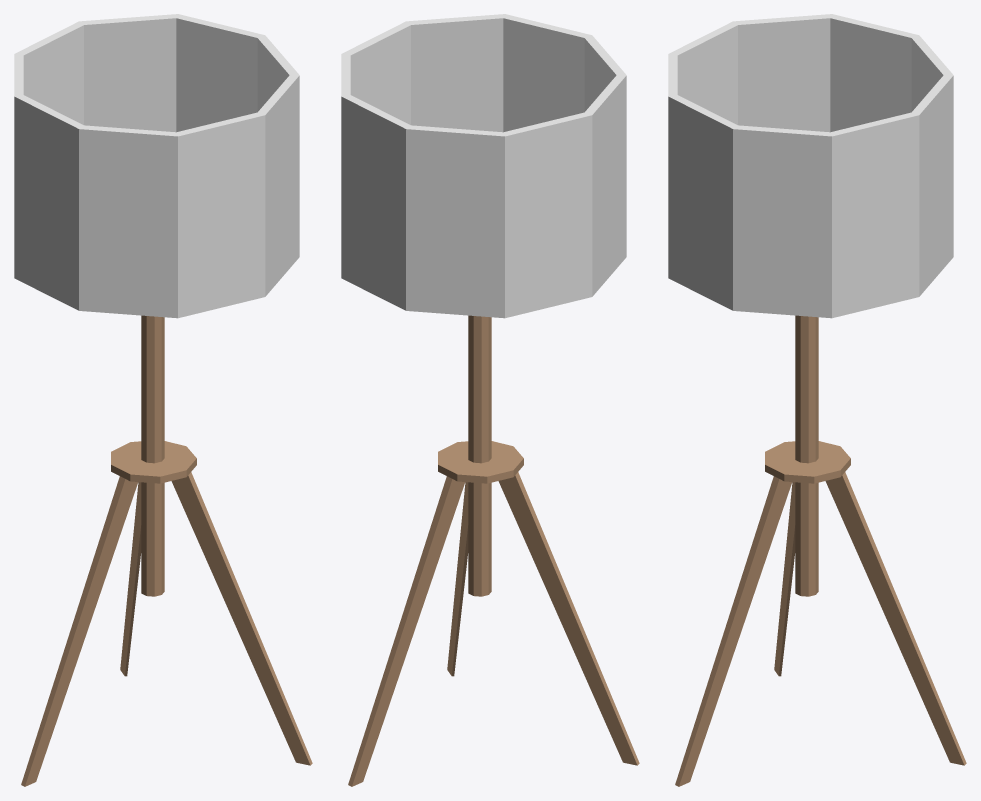
The model's file is lamp2.gltf.
The picture shows the model from 3 angles, left to right: view 1: azimuth 30°, elevation 25°; view 2: azimuth 150°, elevation 25°; view 3: azimuth 270°, elevation 25°; orthographic projection.
Visible parts, largest first — view 1: Cube; view 2: Cube; view 3: Cube.
Part boxes in pixels (<box>): Cube: <box>14,14,312,786</box>; Cube: <box>341,14,639,786</box>; Cube: <box>668,14,966,786</box>.
Bounding box in the file's own units: 1.12 × 2.63 × 1.07.
2 materials, 2 textured.
